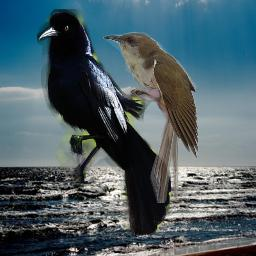Crow: (37, 9, 171, 235)
Cuckoo: (103, 31, 198, 203)
